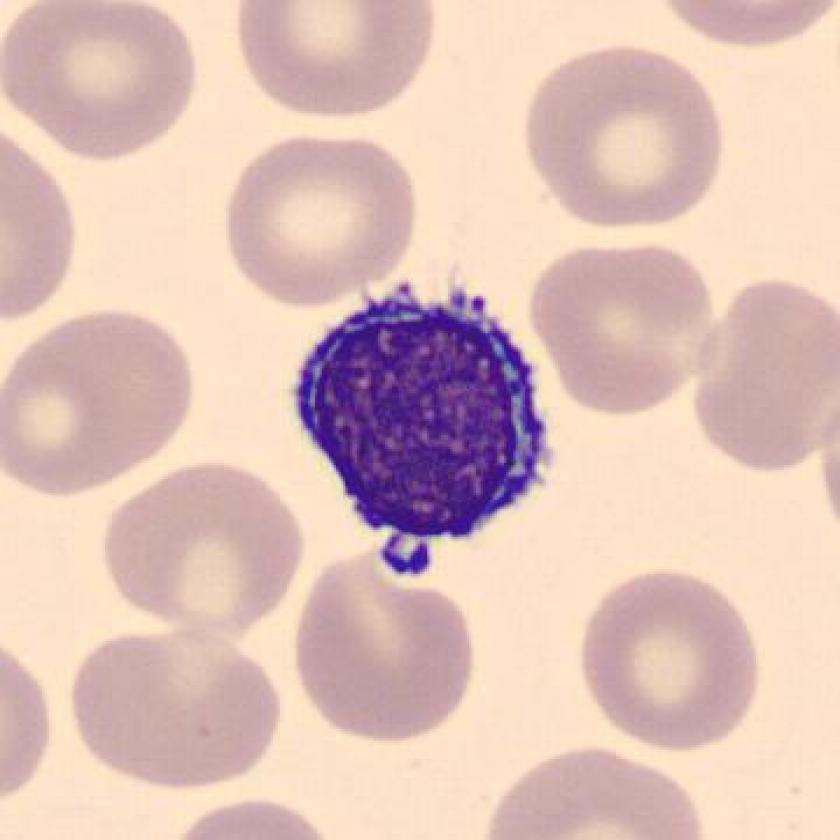lymphocyte: (274, 279, 573, 587)
